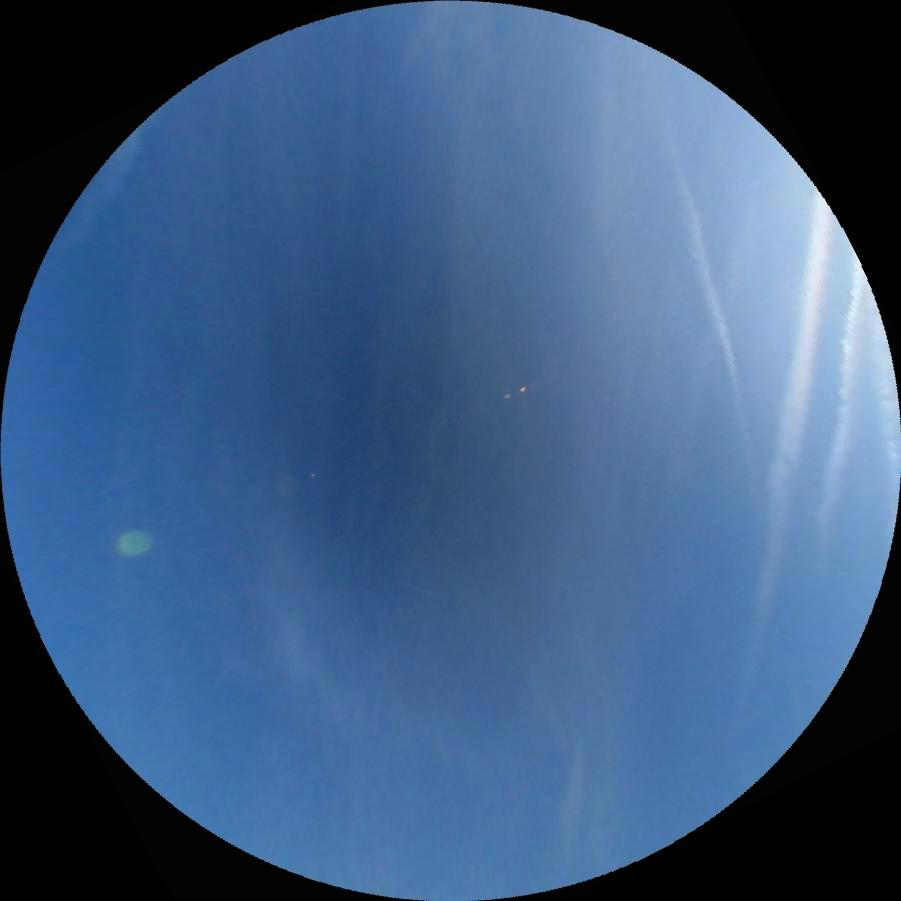contrail veryold: (720, 196, 844, 737)
contrail young: (361, 568, 434, 596)
unknow: (659, 136, 760, 449), (811, 260, 873, 546)
